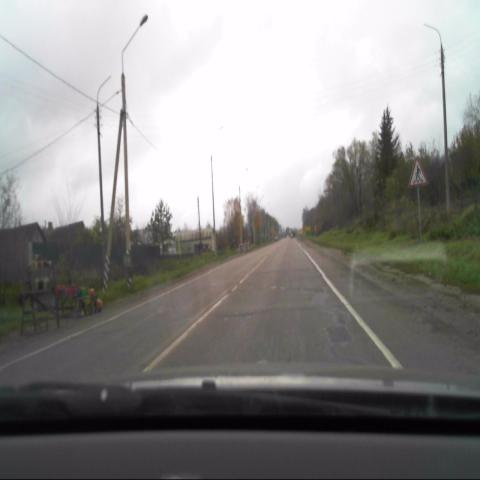1_22: (407, 156, 429, 192)
